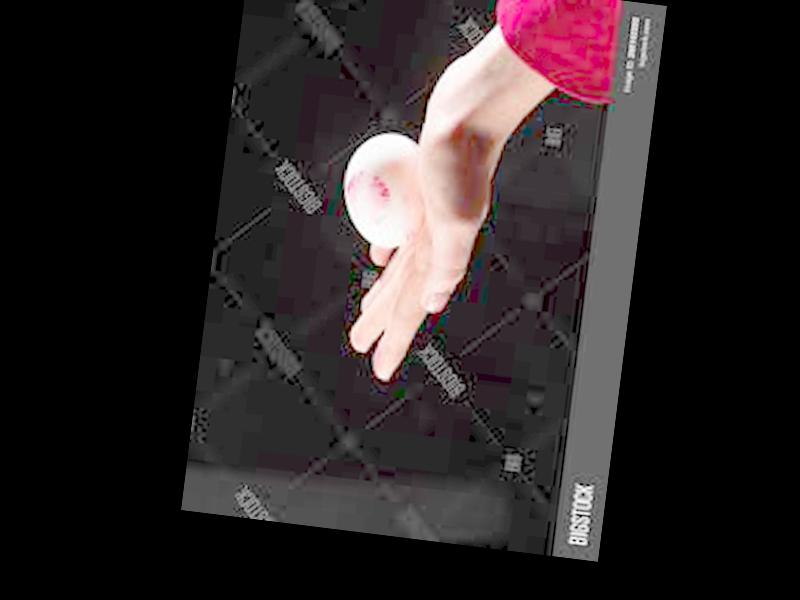Eggs: (337, 127, 426, 247)
